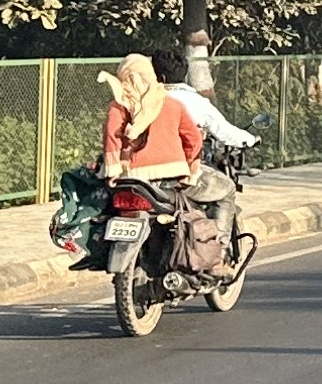BikeWithRider: (46, 41, 284, 339)
NoHelmet: (111, 48, 160, 90), (153, 43, 194, 83)
